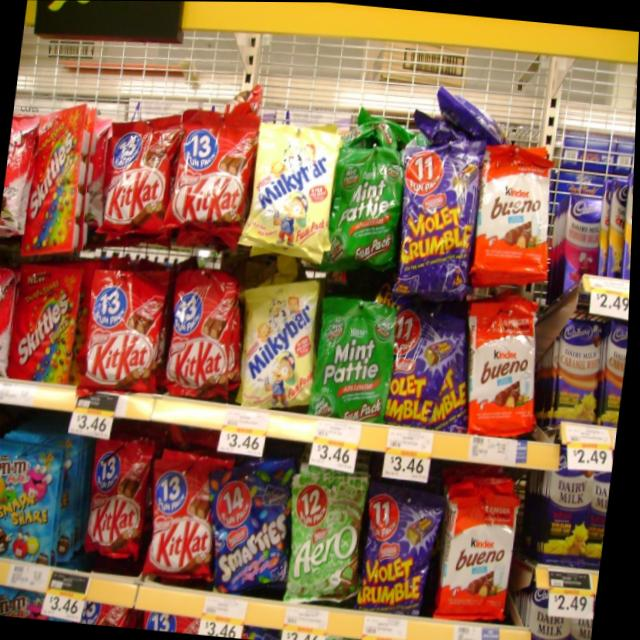q151: (17, 104, 102, 271), (4, 252, 97, 392)
q280: (166, 102, 262, 235), (159, 269, 252, 395), (82, 253, 165, 393), (97, 100, 177, 241), (143, 446, 220, 588)
